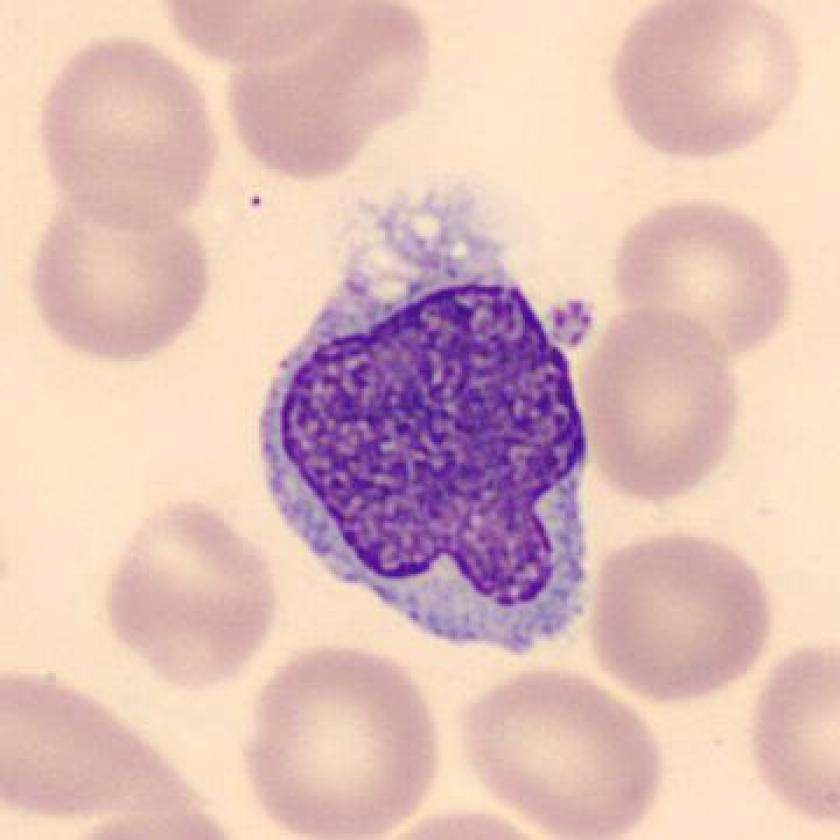monocyte: (237, 159, 631, 661)
